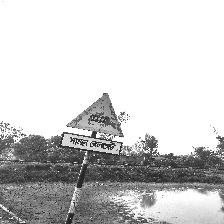Rail-crossing: (62, 93, 126, 155)
